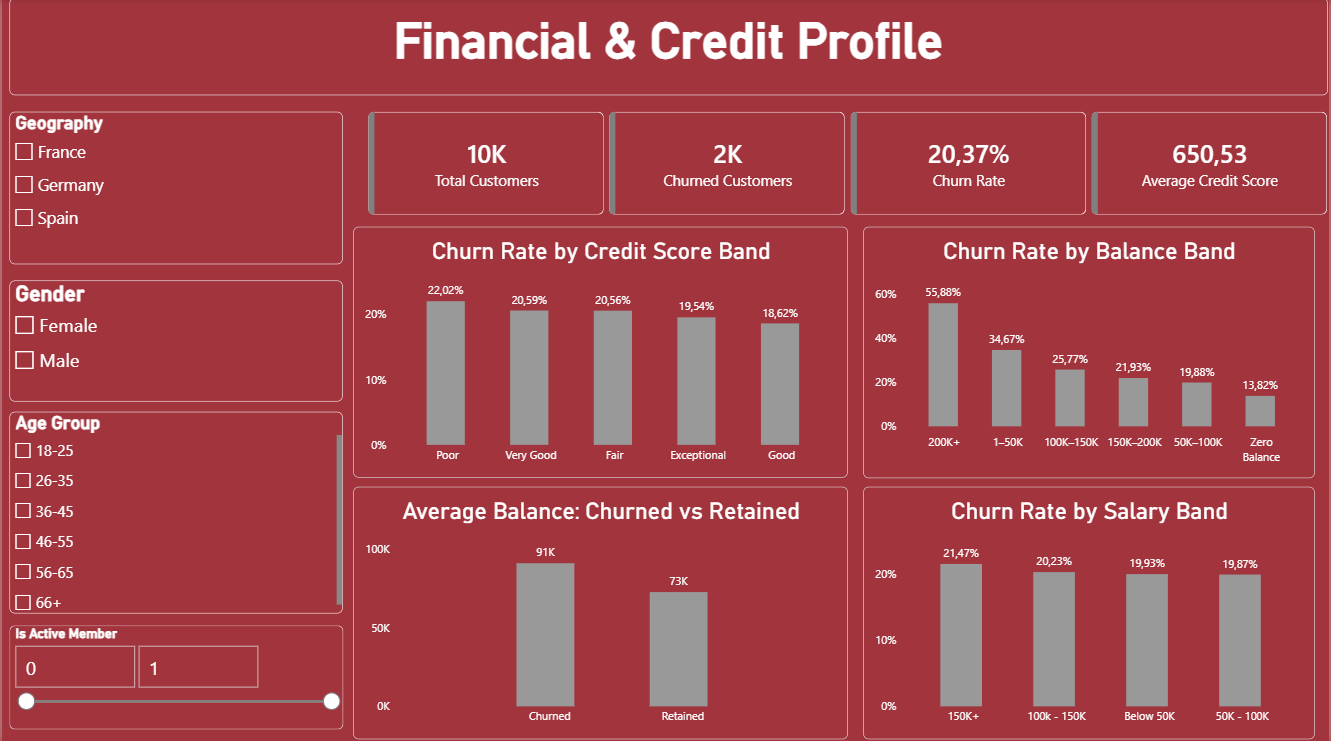

The dashboard page shown, as its layout file describes it:
{"tool":"powerbi","page":{"name":"Financial & Credit Profile","canvas":[1920,1080],"ordinal":3},"visuals":[{"type":"textbox","box":[10.8,0,1908.8,279.2],"z":0},{"type":"shape","box":[10.8,0,1908.8,140.7],"z":1000},{"type":"textbox","box":[10.8,0,1908.8,140.7],"z":2000},{"type":"cardVisual","fields":{"Data":["churn.Total Customers","churn.Churned Customers","churn.Churn Rate","churn.Average Credit Score"]},"box":[530.2,164.5,1389.4,149.3],"z":3000},{"type":"clusteredColumnChart","fields":{"Category":["churn.Credit Score Band"],"Y":["churn.Churn Rate"]},"box":[508.6,331.1,716.3,363.6],"z":4000},{"type":"clusteredColumnChart","fields":{"Category":["churn.Balance Band"],"Y":["churn.Churn Rate"]},"box":[1246.9,331.2,653.3,363.7],"z":5000},{"type":"clusteredColumnChart","fields":{"Category":["churn.Salary Band"],"Y":["churn.Churn Rate"]},"box":[1246.5,707.7,653.6,365.7],"z":6000},{"type":"slicer","fields":{"Values":["churn.Geography"]},"box":[10.8,164.5,482.6,220.7],"z":7000},{"type":"slicer","fields":{"Values":["churn.Gender"]},"box":[10.8,409,482.6,175.3],"z":8000},{"type":"slicer","fields":{"Values":["churn.Age Group"]},"box":[10.8,599.5,482.6,292.2],"z":9000},{"type":"slicer","fields":{"Values":["churn.Is Active Member"]},"box":[10.8,908.9,483,150],"z":10000},{"type":"clusteredColumnChart","title":"Average Balance: Churned vs Retained","fields":{"Category":["churn.Churn Status"],"Y":["churn.Average Balance"]},"box":[508.6,707.7,716.3,365.7],"z":11000}]}

Visuals, with their boxes in screenshot pixels (x1, y1, x2, y2), scaled from the page's 1920x1080 canvas onto the 1331x741 screenshot:
textbox: [7, 0, 1330, 192]
shape: [7, 0, 1330, 97]
textbox: [7, 0, 1330, 97]
cardVisual - churn.Total Customers x churn.Churned Customers: [368, 113, 1330, 215]
clusteredColumnChart - churn.Credit Score Band x churn.Churn Rate: [353, 227, 849, 477]
clusteredColumnChart - churn.Balance Band x churn.Churn Rate: [864, 227, 1317, 477]
clusteredColumnChart - churn.Salary Band x churn.Churn Rate: [864, 486, 1317, 736]
slicer - churn.Geography: [7, 113, 342, 264]
slicer - churn.Gender: [7, 281, 342, 401]
slicer - churn.Age Group: [7, 411, 342, 612]
slicer - churn.Is Active Member: [7, 624, 342, 727]
"Average Balance: Churned vs Retained" clusteredColumnChart: [353, 486, 849, 736]
